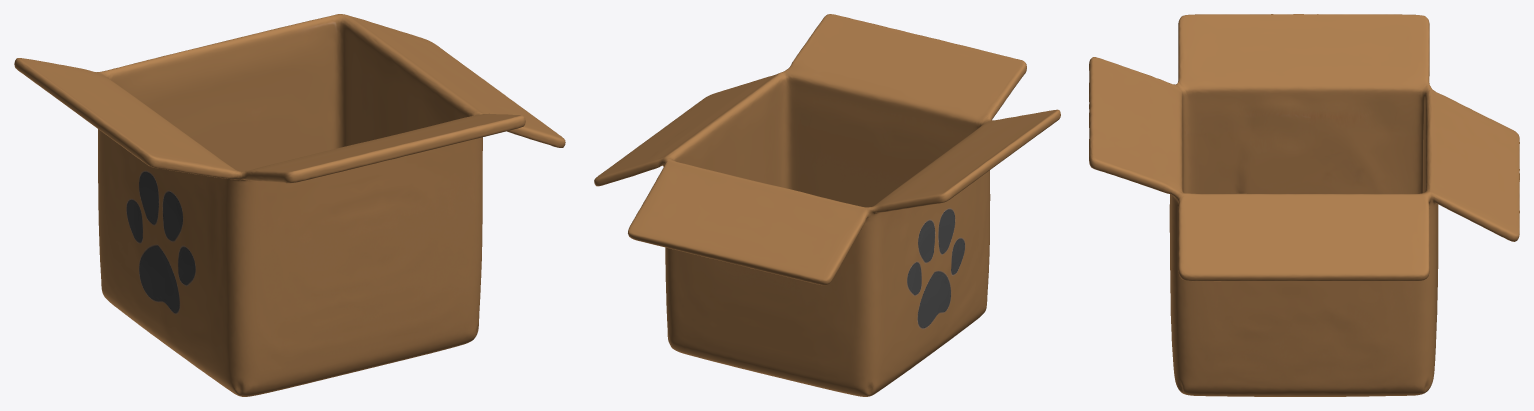
File: Online_BoxOpen.fbx
3 views of the same model, side by side, from view 1: azimuth 30°, elevation 25°; view 2: azimuth 150°, elevation 25°; view 3: azimuth 270°, elevation 25° (orthographic). The views are drawn at different scales.
Parts seen in each view (by area): view 1: texture_mapping; view 2: texture_mapping; view 3: texture_mapping.
Boxes of the visible parts, x1,y1,x2,y2 form: texture_mapping: [14, 14, 565, 396]; texture_mapping: [594, 14, 1060, 396]; texture_mapping: [1089, 14, 1519, 396].
Bounding box in the file's own units: 0.996 × 0.9824 × 0.6169.
Materials: 1 (1 with a texture image).
